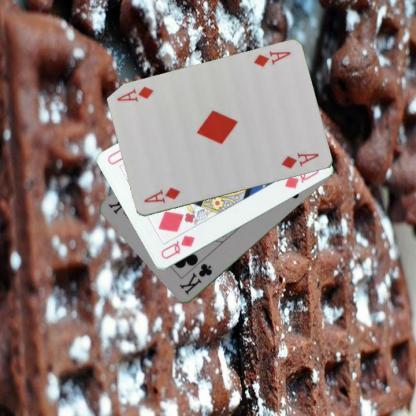Ad: (140, 184, 182, 204), (250, 48, 292, 68)
Kc: (176, 261, 214, 296)
Qd: (158, 232, 196, 261)
